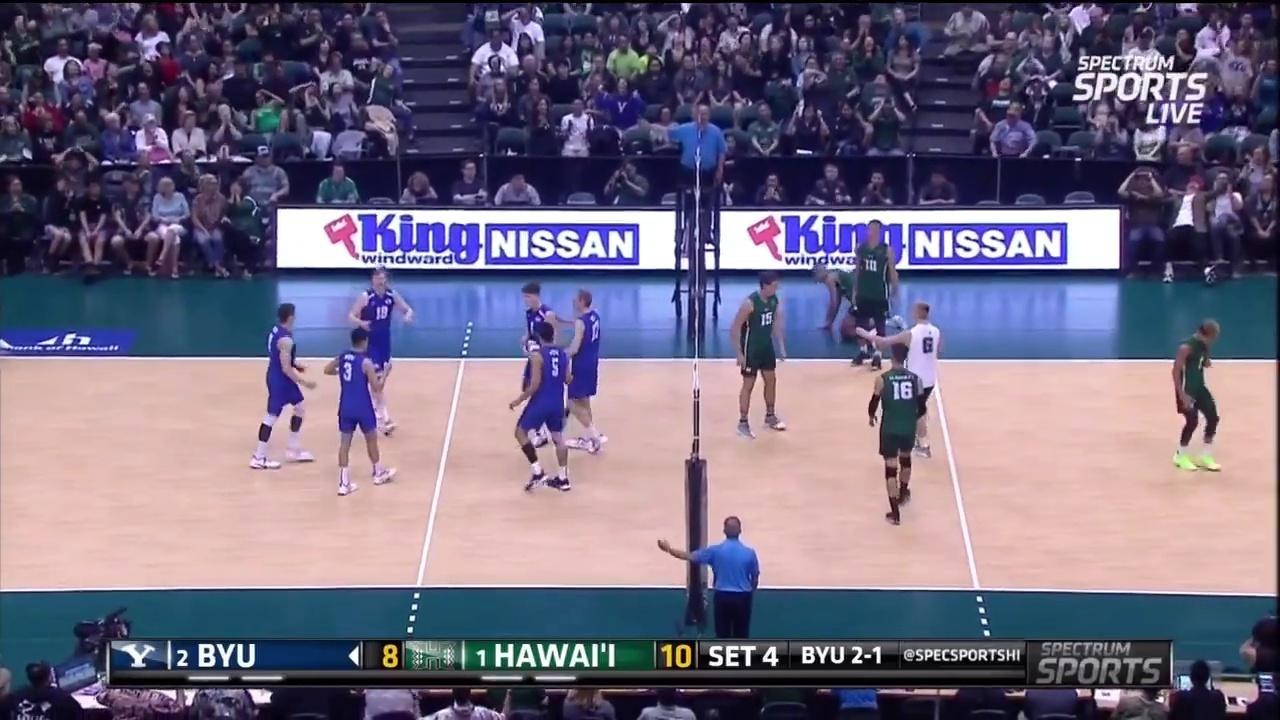player: (512, 321, 584, 504), (350, 269, 419, 437), (328, 325, 397, 492), (868, 343, 926, 528), (251, 308, 315, 467), (888, 297, 947, 455), (731, 277, 789, 434), (807, 254, 901, 347), (518, 276, 566, 454), (561, 288, 611, 446), (1175, 323, 1226, 469), (853, 217, 891, 373)
refree: (663, 517, 764, 633), (659, 95, 731, 239)
